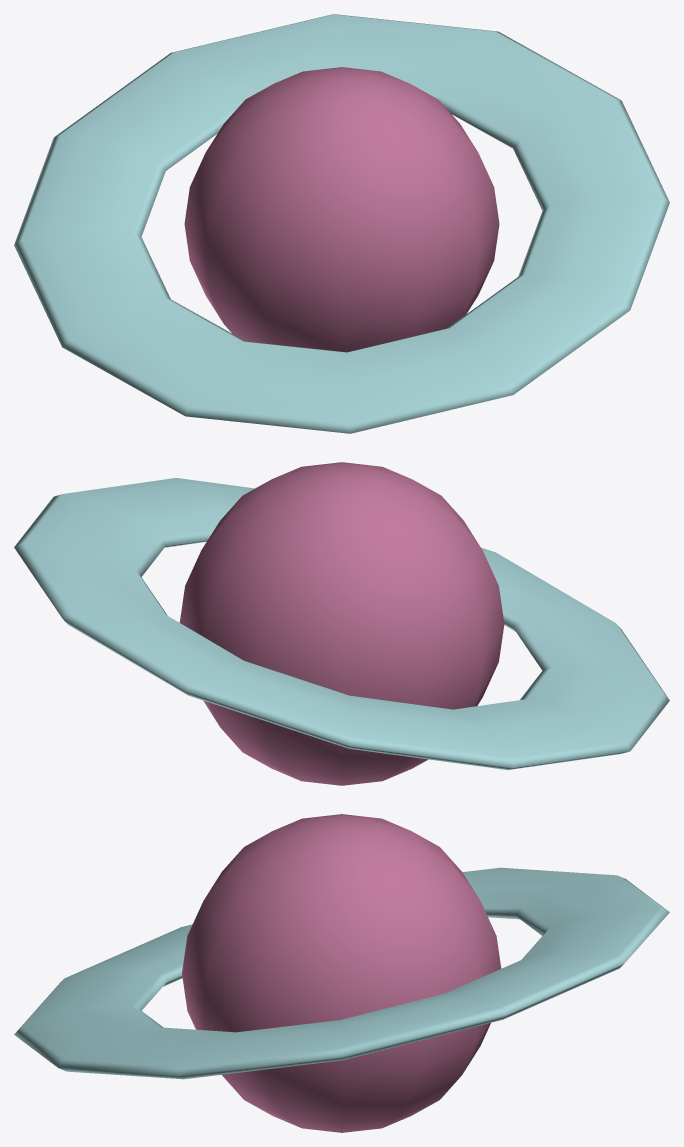
The model's file is planetPlant_fruit.fbx.
The picture shows the model from 3 angles, top to bottom: view 1: azimuth 30°, elevation 25°; view 2: azimuth 150°, elevation 25°; view 3: azimuth 270°, elevation 25°; orthographic projection. The views are drawn at different scales.
Parts seen in each view (by area): view 1: papple_fruitRing, papple_fruit; view 2: papple_fruit, papple_fruitRing; view 3: papple_fruit, papple_fruitRing.
Boxes of the visible parts, <box> form: papple_fruitRing: <box>14,14,669,433</box>; papple_fruit: <box>184,67,499,352</box>; papple_fruit: <box>179,462,504,785</box>; papple_fruitRing: <box>14,478,669,769</box>; papple_fruit: <box>182,814,501,1132</box>; papple_fruitRing: <box>14,867,669,1079</box>.
Bounding box in the file's own units: 50.55 × 24.64 × 50.51.
